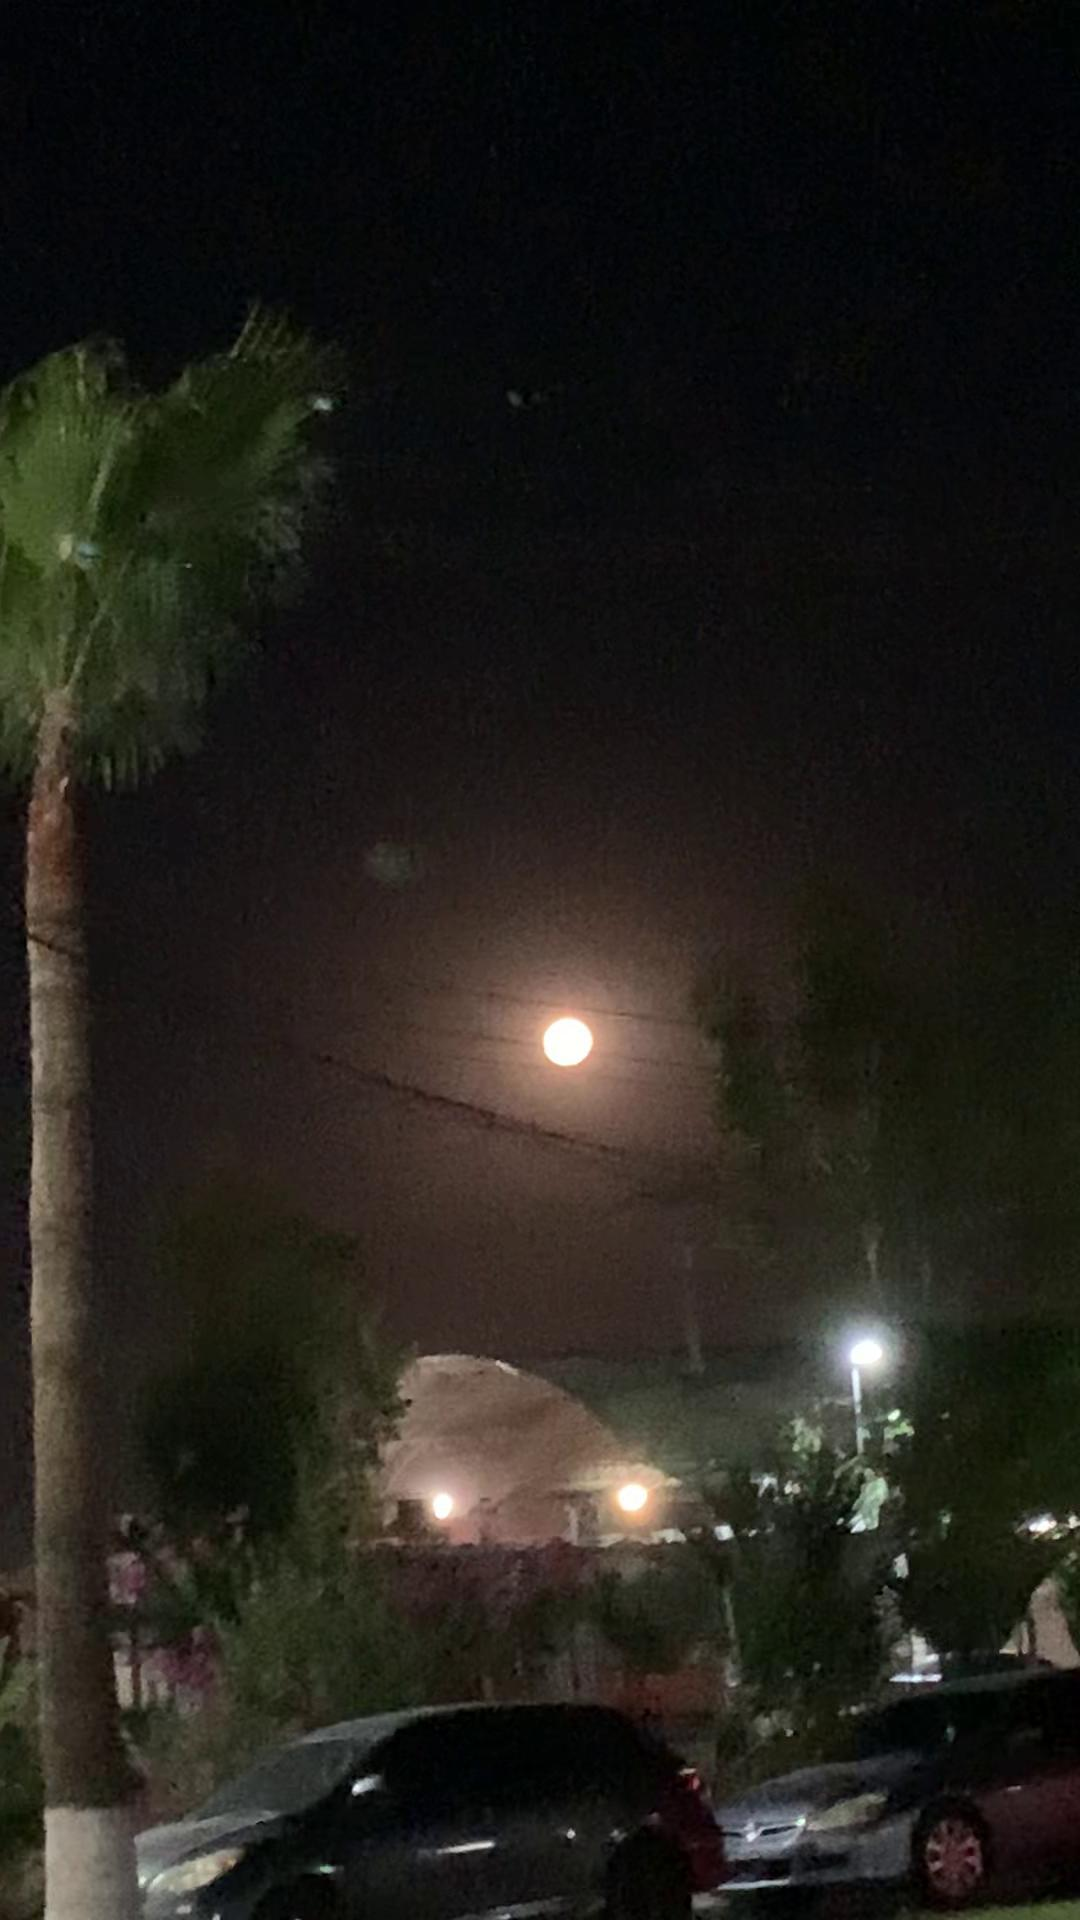moon: (520, 1015, 601, 1075)
